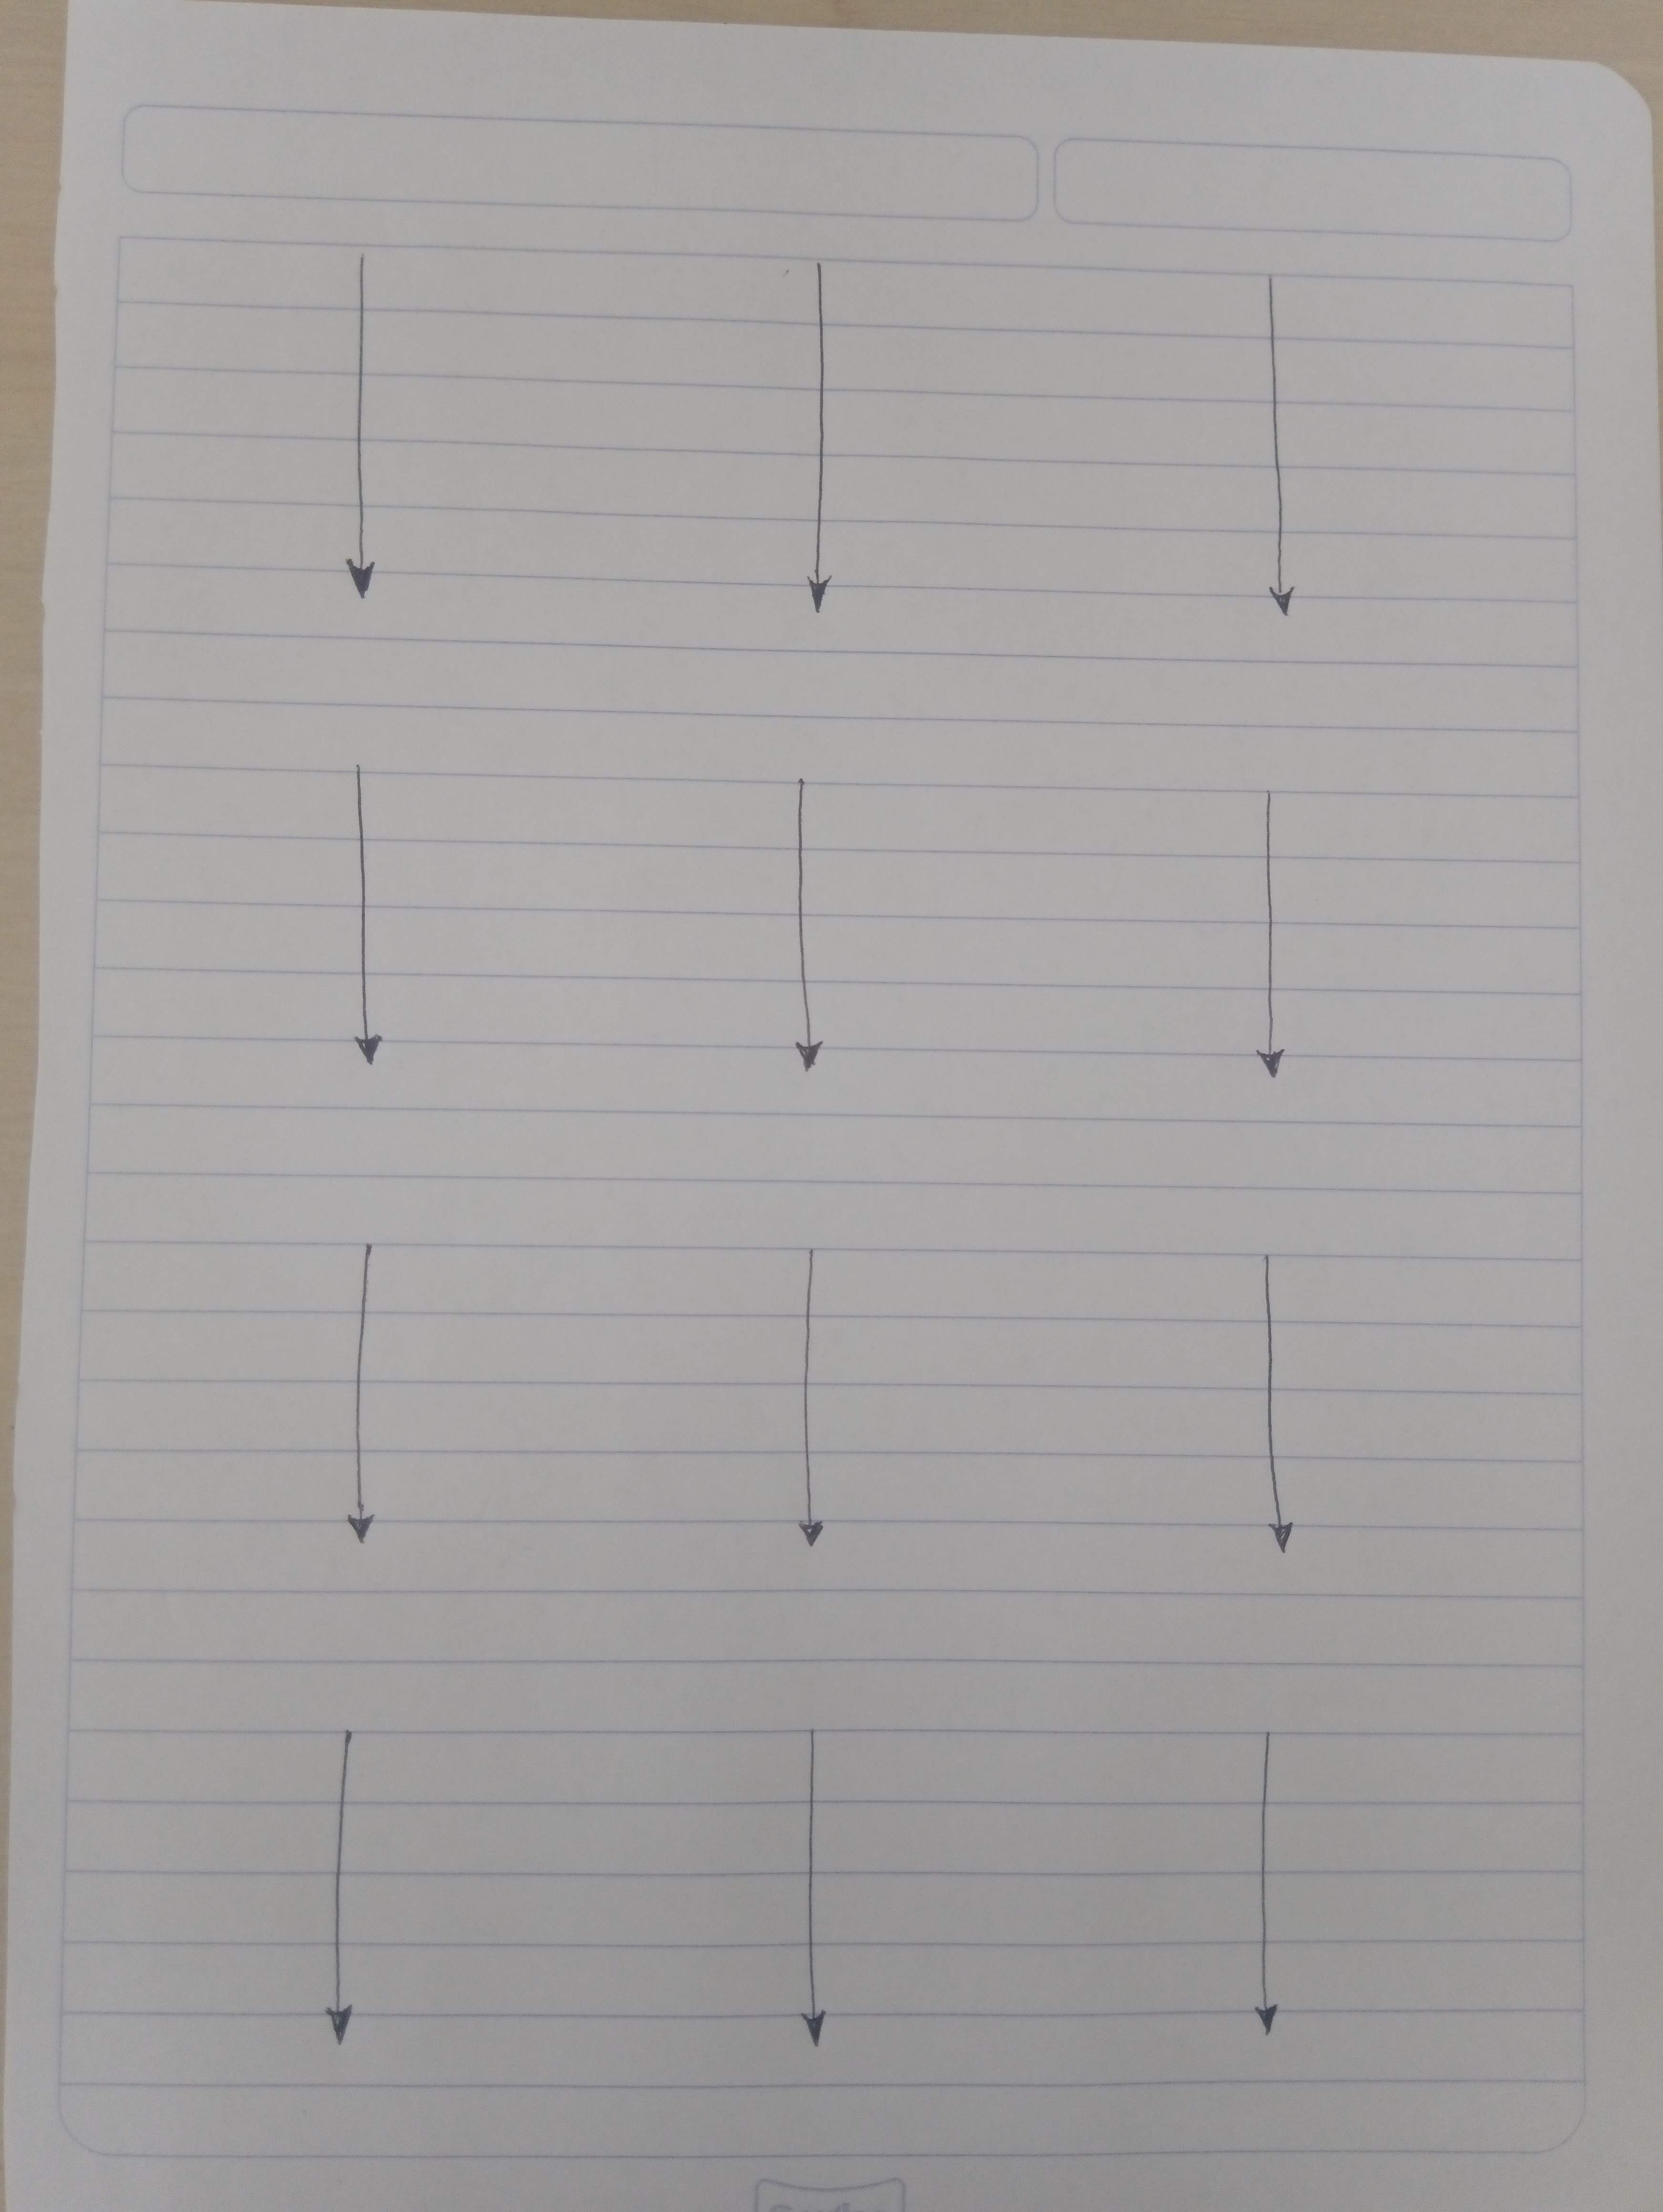arrow_line_down: (1219, 255, 1342, 618), (295, 1234, 414, 1557), (776, 255, 865, 625), (306, 271, 398, 618), (1242, 1248, 1329, 1571), (335, 765, 417, 1091), (769, 765, 849, 1091), (1232, 1725, 1305, 2037), (304, 1725, 369, 2067), (776, 1728, 845, 2044), (1235, 794, 1308, 1088), (776, 1257, 835, 1549)
